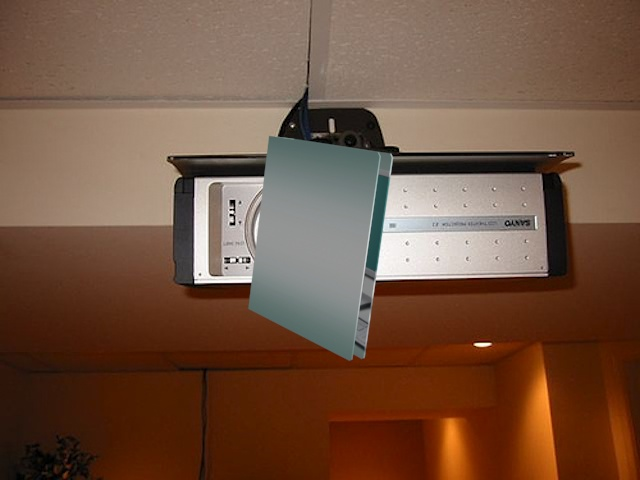ring_binder: (241, 129, 401, 368)
